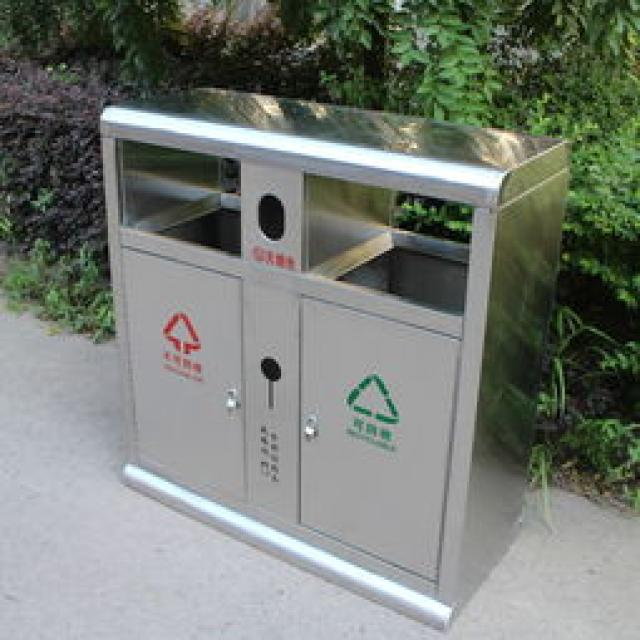garbage_bin: (95, 83, 570, 632)
